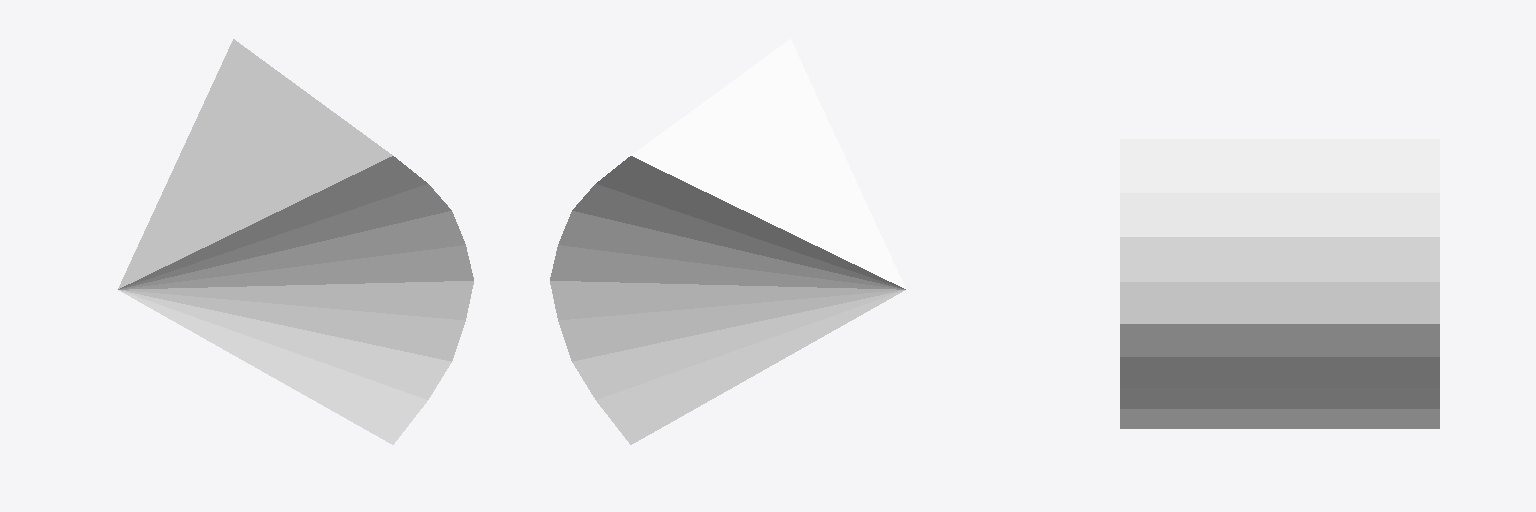
The model's file is Sensor90.obj.
3 renders of one model, left to right at view 1: azimuth 30°, elevation 25°; view 2: azimuth 150°, elevation 25°; view 3: azimuth 270°, elevation 25°, orthographic.
Parts seen in each view (by area): view 1: 90deg01; view 2: 90deg01; view 3: 90deg01.
Boxes of the visible parts, x1,y1,x2,y2 form: 90deg01: [118, 39, 473, 444]; 90deg01: [550, 39, 905, 444]; 90deg01: [1120, 139, 1439, 428].
Bounding box in the file's own units: 1 × 1 × 1.